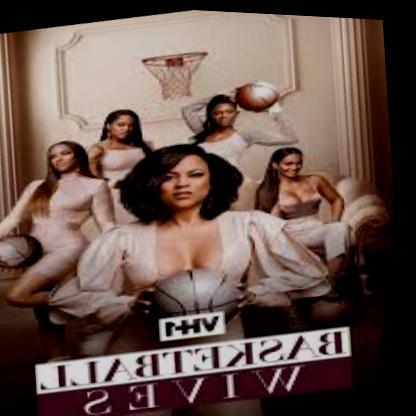basketball: (147, 258, 256, 333), (0, 231, 49, 274), (233, 73, 285, 113), (310, 288, 361, 325)
rim: (139, 43, 210, 70)
